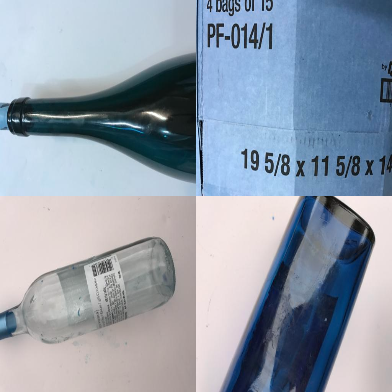cardboard: (197, 1, 391, 194)
glass: (218, 196, 377, 392), (1, 52, 196, 186), (1, 237, 176, 343)
